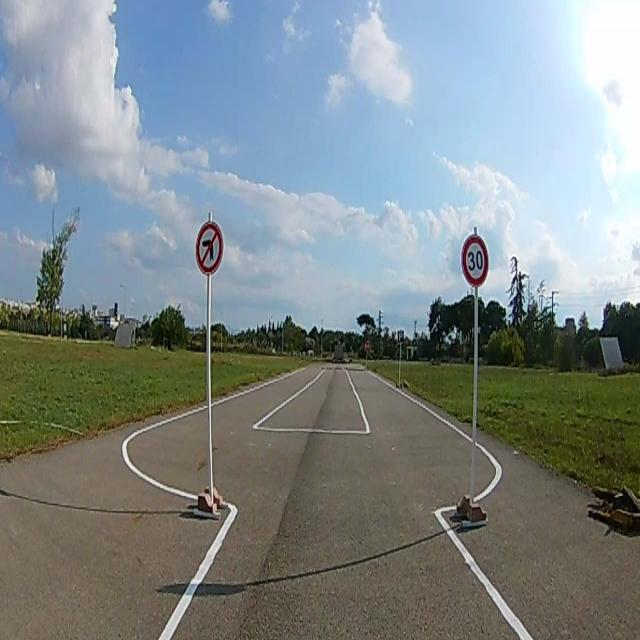30: (462, 236, 488, 284)
soladonulmez: (196, 221, 222, 271)
